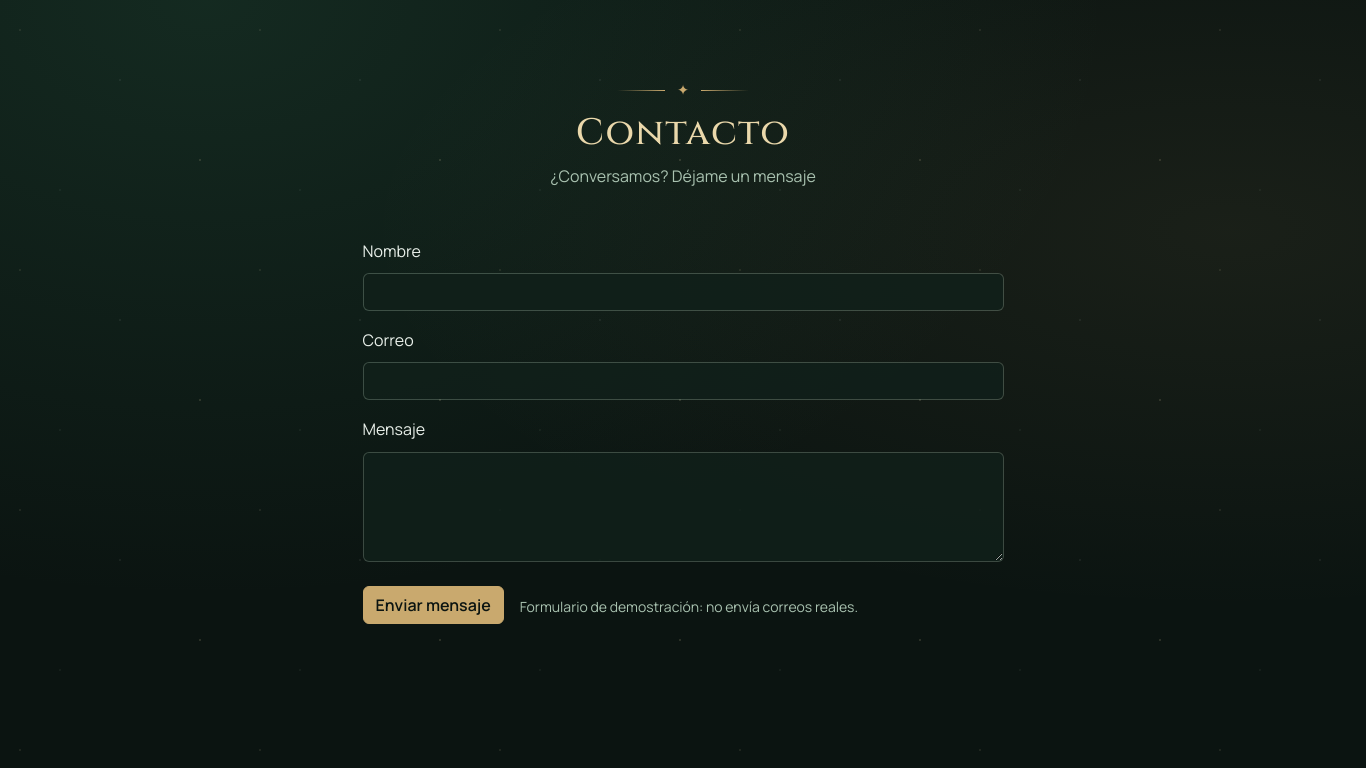
Test case: FormularioContacto › borra el error de un campo apenas la persona lo corrige
Step 1. Click the button "Enviar mensaje" → (433,605), box top-left (362, 586), bottom-right (504, 624)
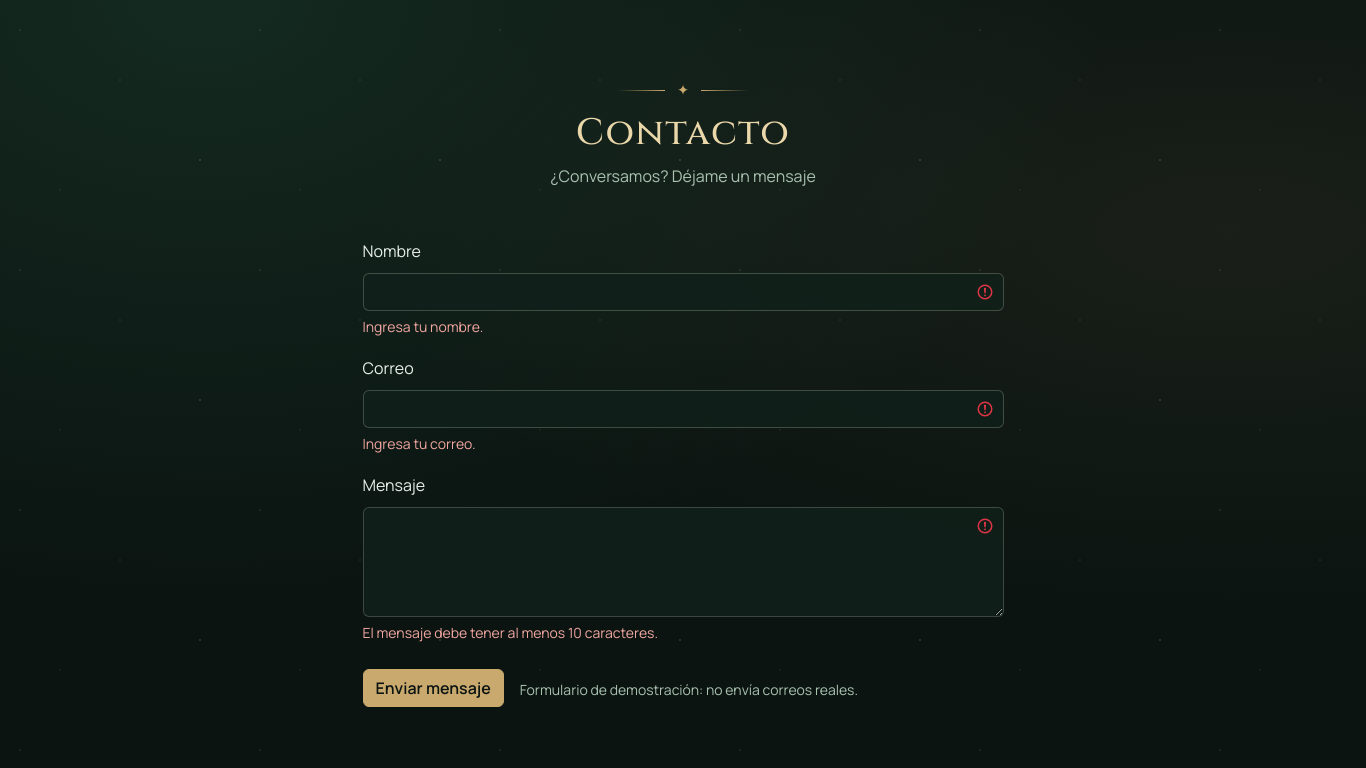
Expected: the field labelled "Nombre" has class "is-invalid"
Step 2. Type "Ana" into the field labelled "Nombre" → (683,292), box top-left (362, 273), bottom-right (1004, 311)
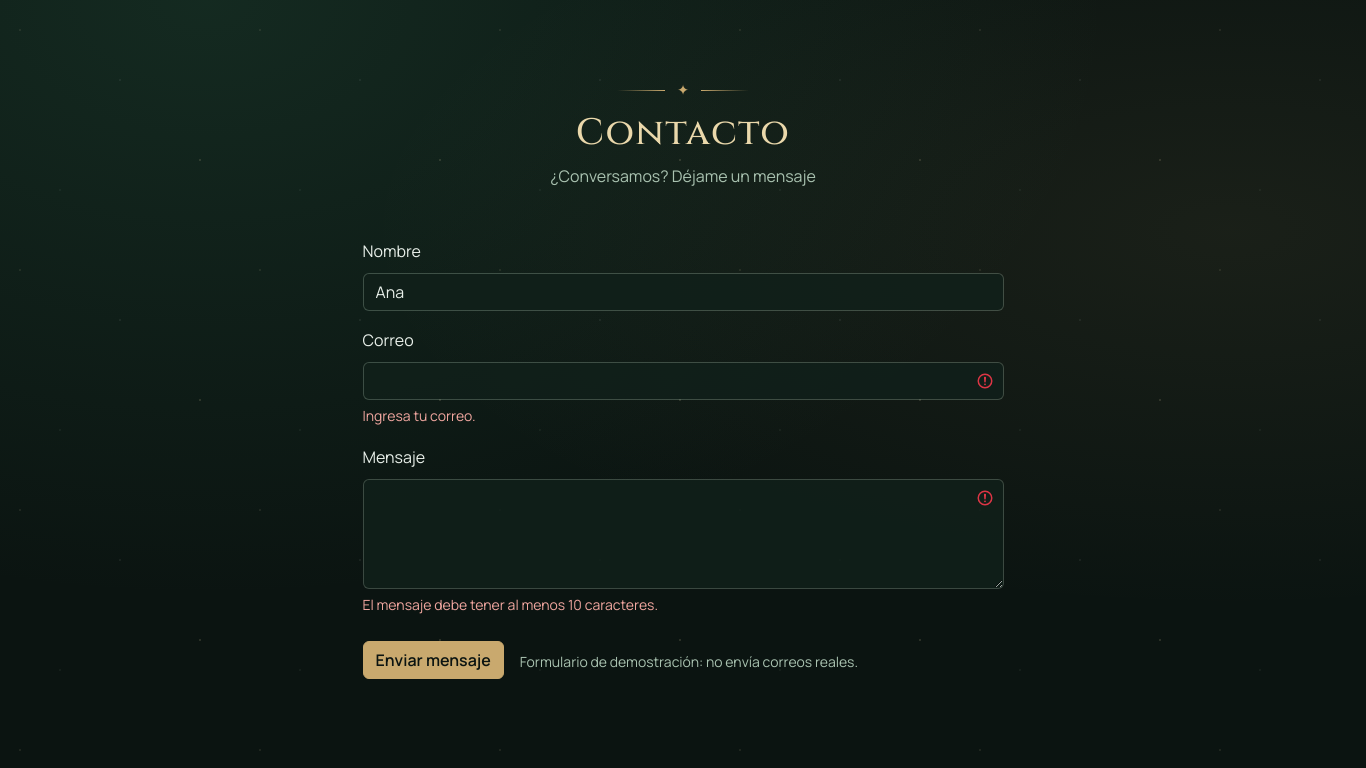
Expected: the text "Ingresa tu nombre." is gone
